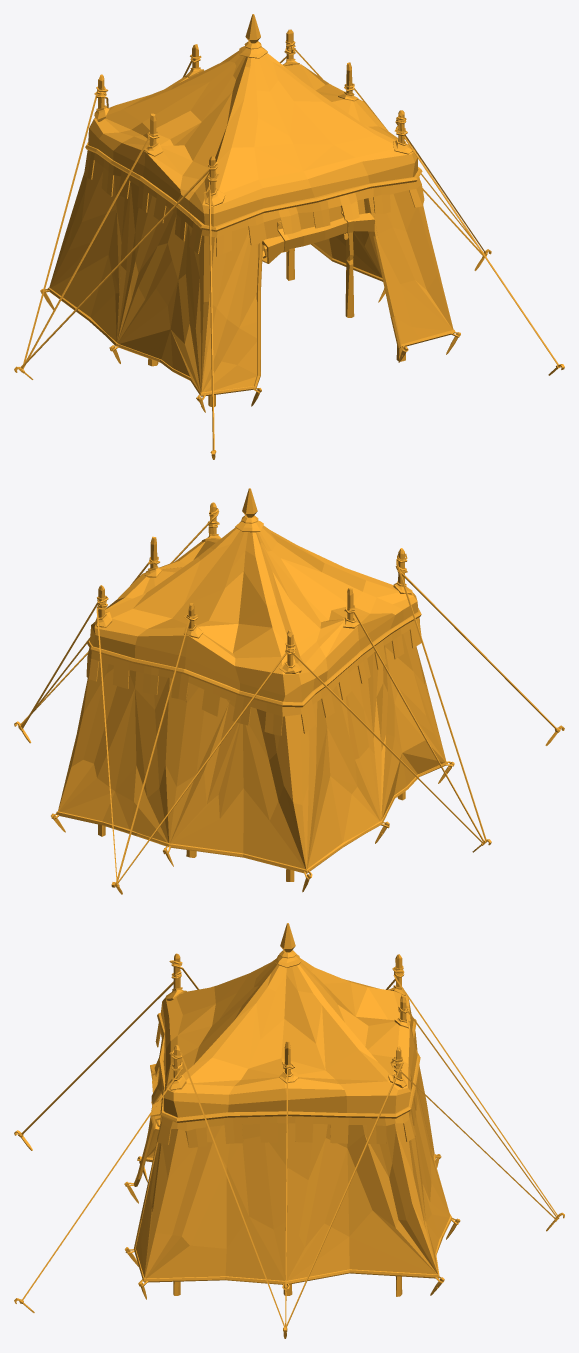
The model's file is SM_Tent_Angular_Striped_Fantasy.fbx.
3 views of the same model, one above another, from view 1: azimuth 30°, elevation 25°; view 2: azimuth 150°, elevation 25°; view 3: azimuth 270°, elevation 25° (orthographic).
Visible parts, largest first — view 1: tent-angular-striped-fantasy; view 2: tent-angular-striped-fantasy; view 3: tent-angular-striped-fantasy.
Boxes of the visible parts, x1=… form: tent-angular-striped-fantasy: x1=14, y1=14, x2=564, y2=459; tent-angular-striped-fantasy: x1=14, y1=488, x2=564, y2=894; tent-angular-striped-fantasy: x1=14, y1=923, x2=564, y2=1338.
Bounding box in the file's own units: 8.06 × 5.31 × 8.11.
